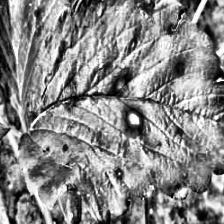Leaf Spot: (15, 0, 224, 224), (0, 0, 89, 122)
